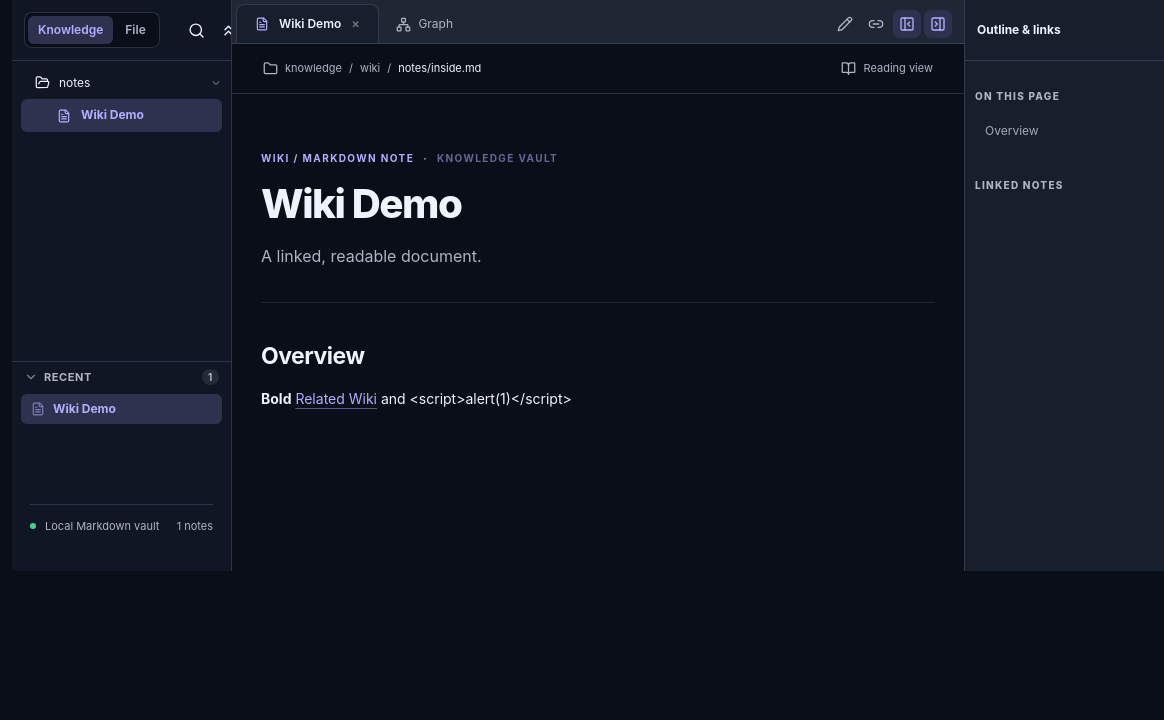
Test case: restores different Explorer folders when switching between Knowledge sources
Step 1. Click the list item with class "tree-folder" → (122, 82), box x1=21 y1=66 x2=222 y2=99
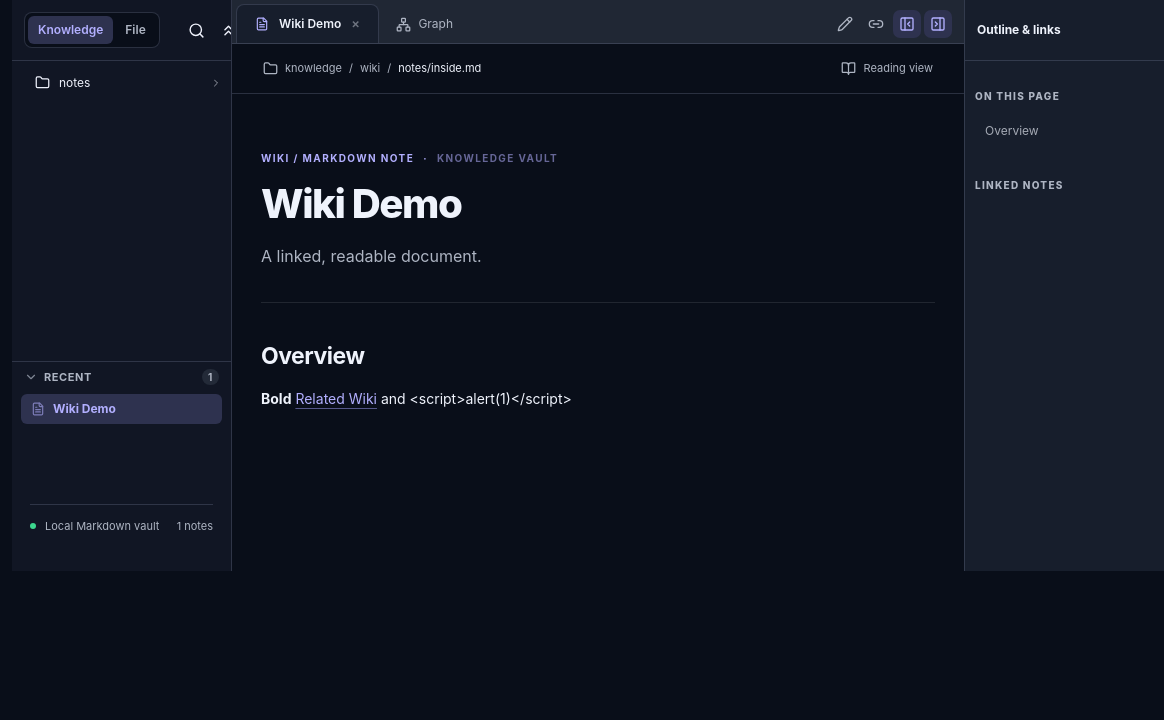
Check: the list item with class "tree-folder" is collapsed, box x1=21 y1=66 x2=222 y2=99
Step 2. Click the tab "File" → (136, 30), box x1=115 y1=16 x2=156 y2=44
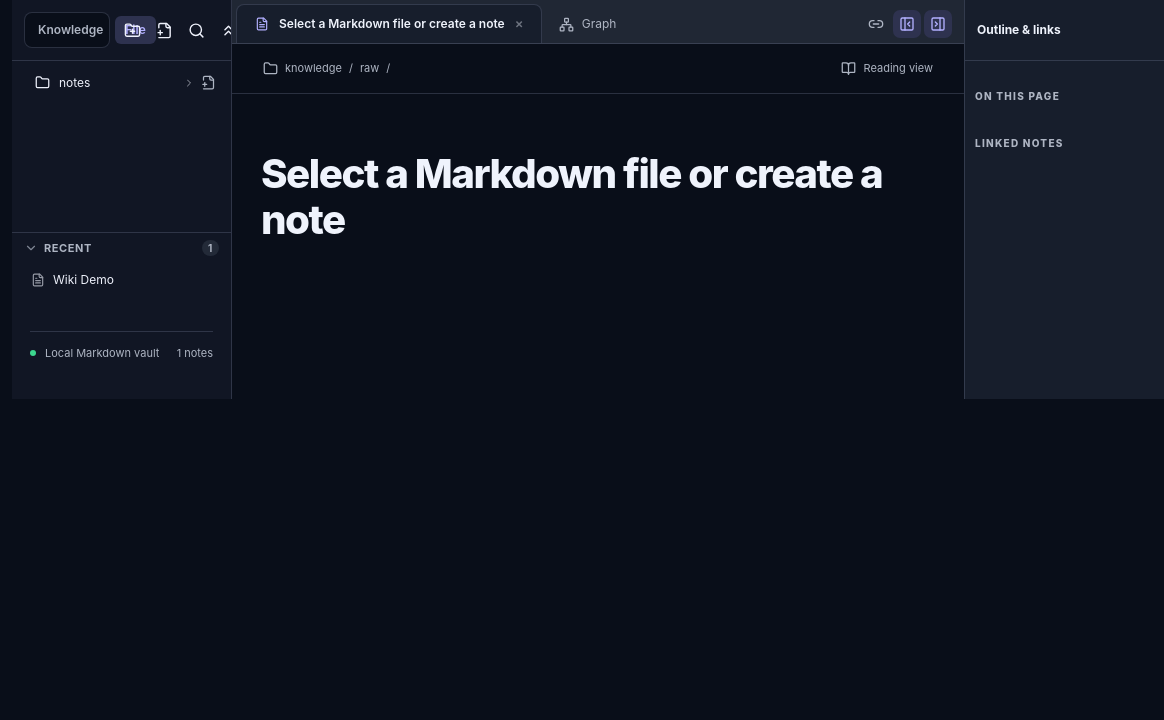
Check: the list item with class "tree-folder" is collapsed
Step 3. Click the list item with class "tree-folder" → (108, 82), box x1=21 y1=66 x2=195 y2=99
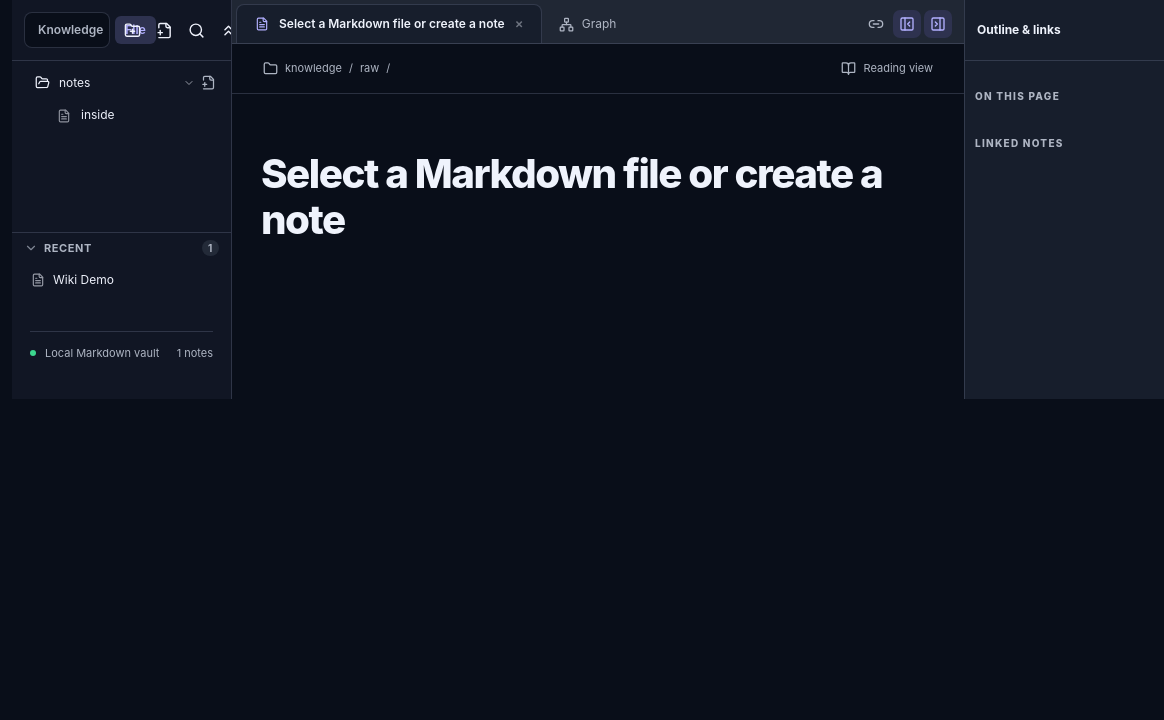
Check: the list item with class "tree-folder" is expanded, box x1=21 y1=66 x2=195 y2=99
Step 4. Click the tab "Knowledge" → (71, 30), box x1=28 y1=16 x2=113 y2=44
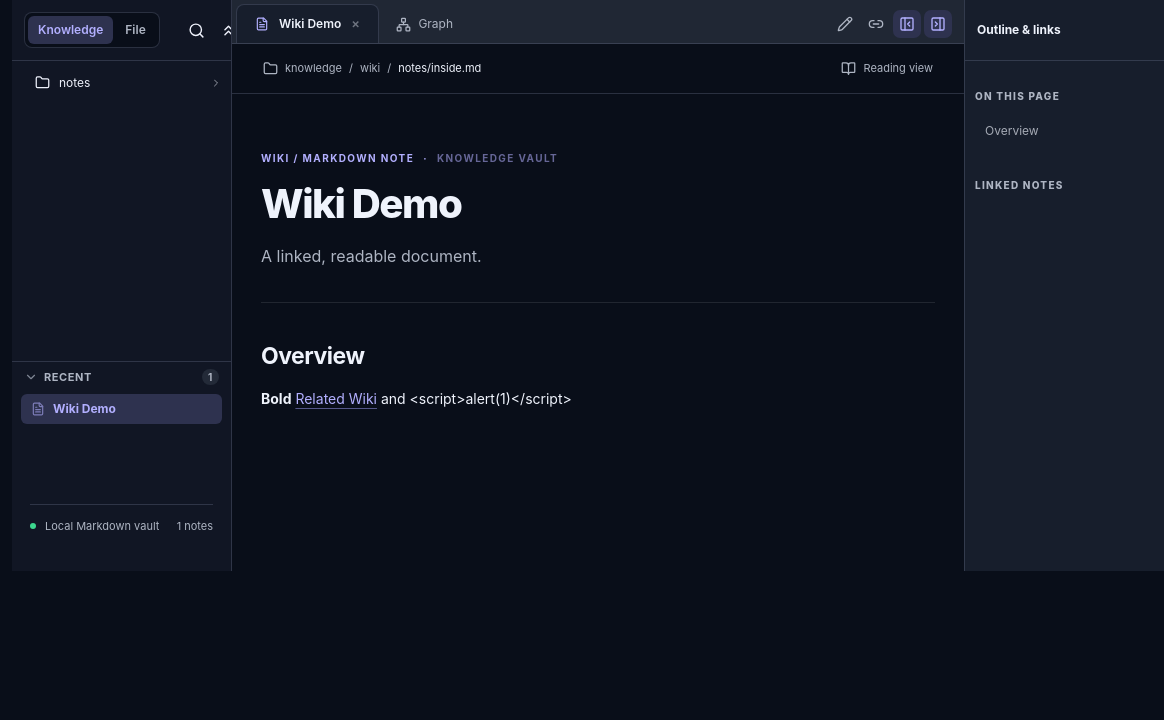
Check: the list item with class "tree-folder" is collapsed, box x1=21 y1=66 x2=222 y2=99
